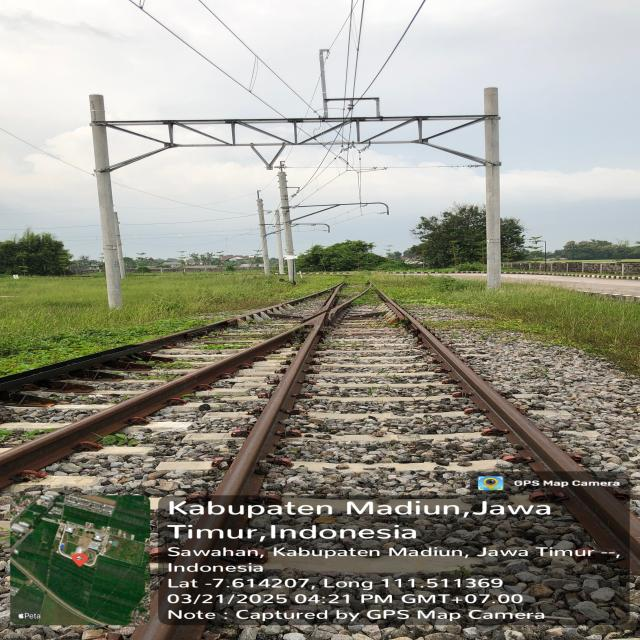rail-detection: (380, 293, 640, 574), (135, 316, 324, 640), (0, 330, 292, 486), (0, 311, 260, 390)
